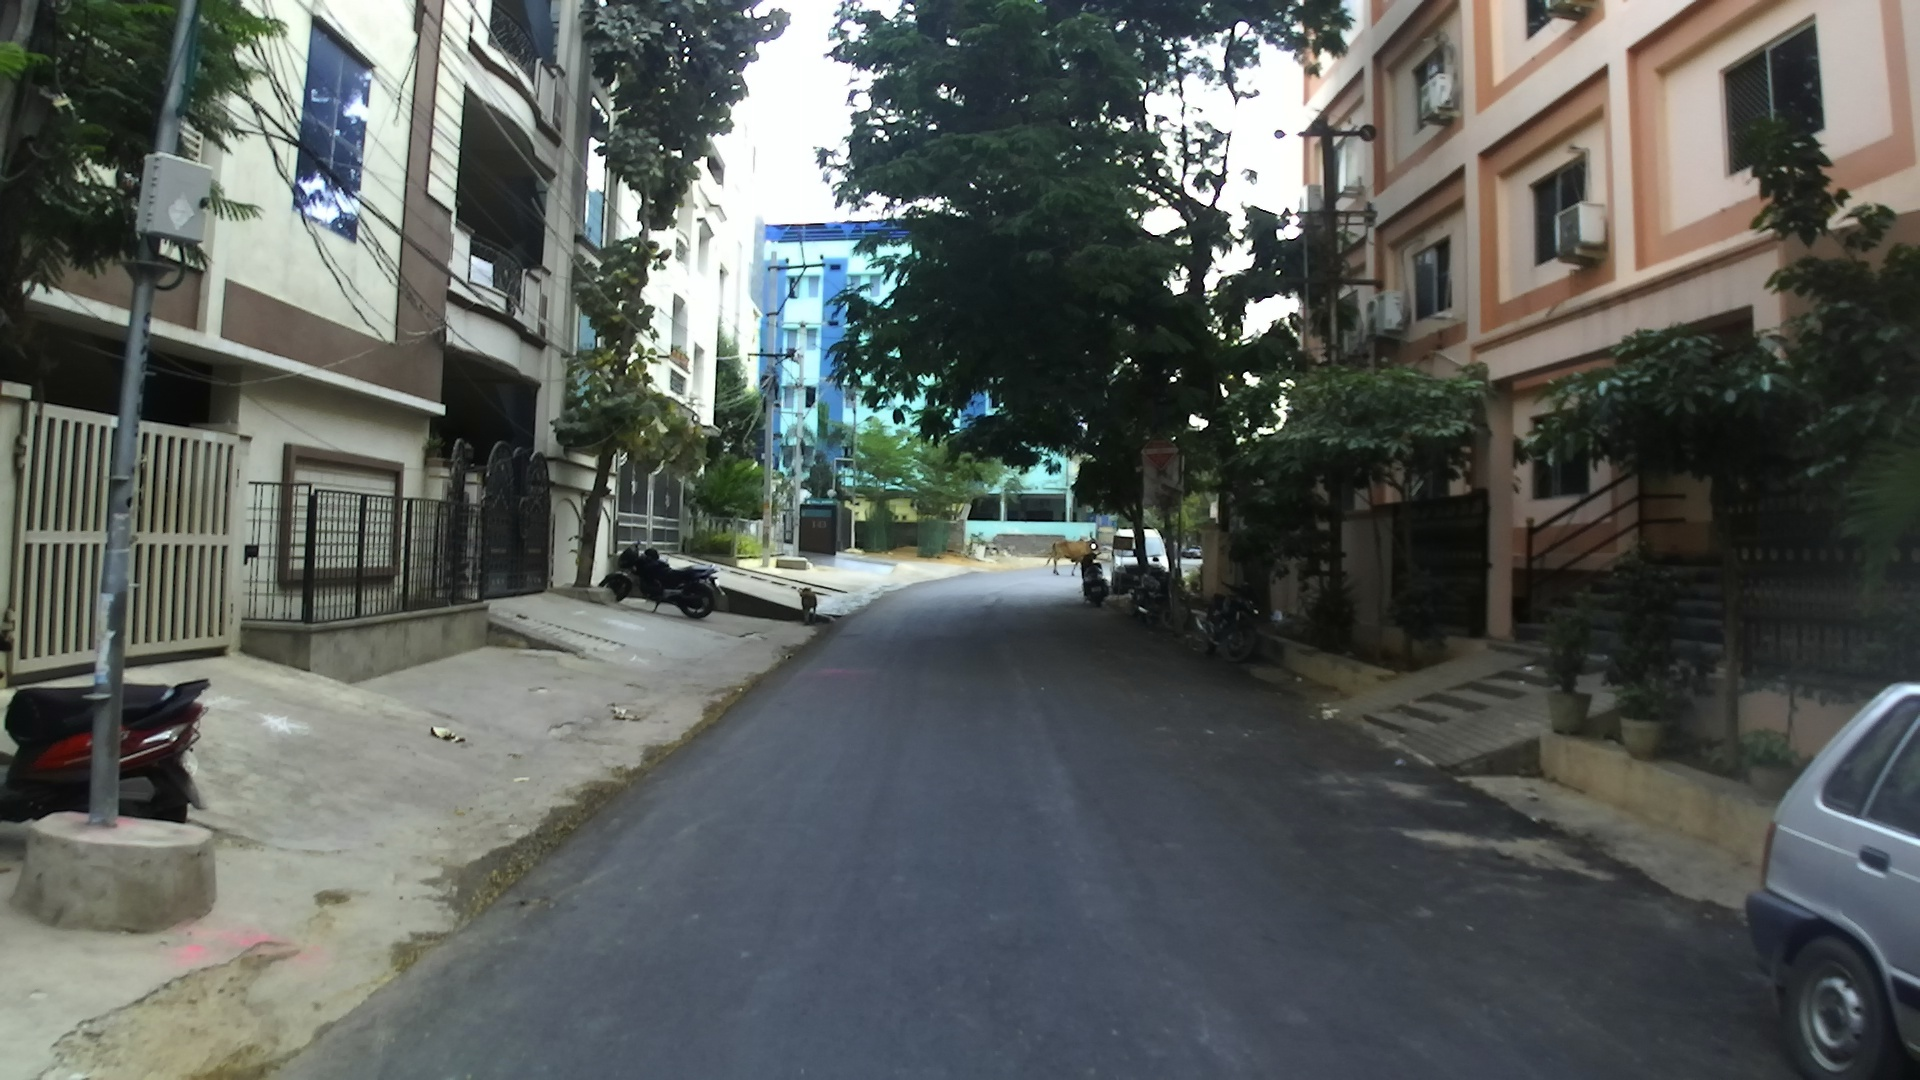vehicle: (1741, 679, 1919, 1080), (599, 549, 720, 620)
